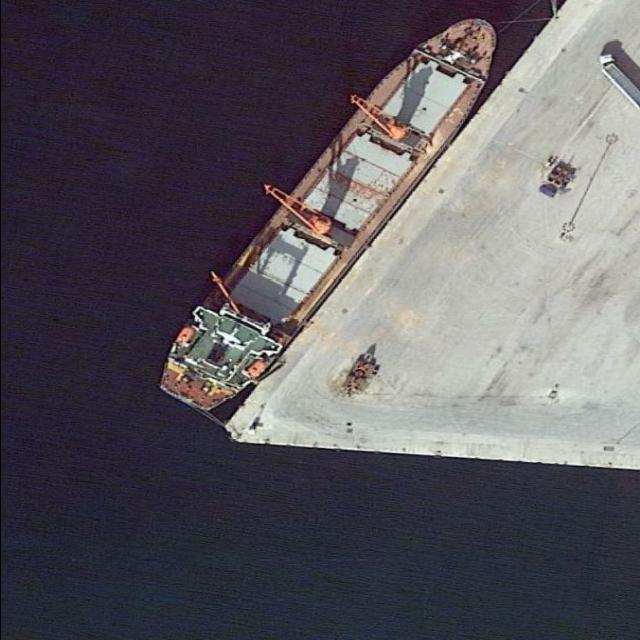ship: (157, 16, 499, 412)
